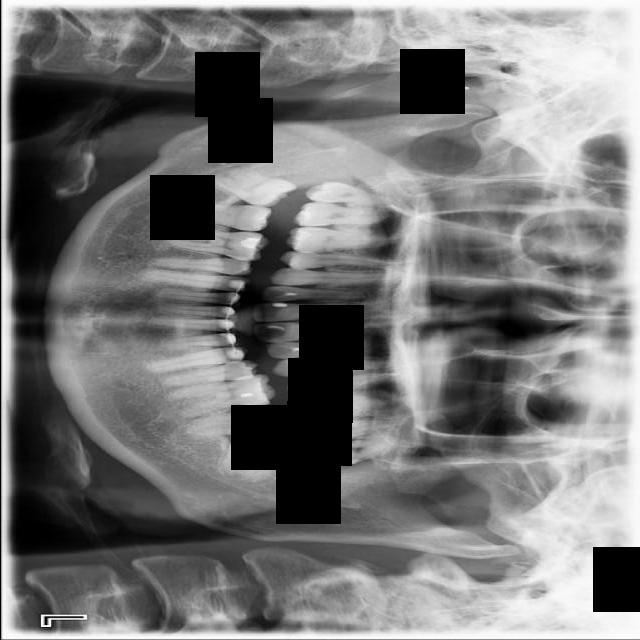3M ESPE Implant: (304, 178, 397, 211)
52: (221, 224, 271, 269), (229, 370, 278, 413), (293, 387, 341, 421), (285, 225, 333, 254), (253, 322, 297, 343), (253, 303, 291, 322), (265, 341, 303, 359), (262, 286, 299, 301)
73: (48, 594, 68, 597)
BioHorizons Implant: (301, 416, 411, 444)
BioLife Implant: (311, 433, 399, 471)
Biomet 3i Implant: (217, 428, 293, 494)
Blue Sky Bio Implant: (185, 405, 278, 436)
Caries: (291, 198, 396, 228)
Implant: (185, 202, 271, 232)
Keystone Dental Implant: (208, 160, 298, 216)
